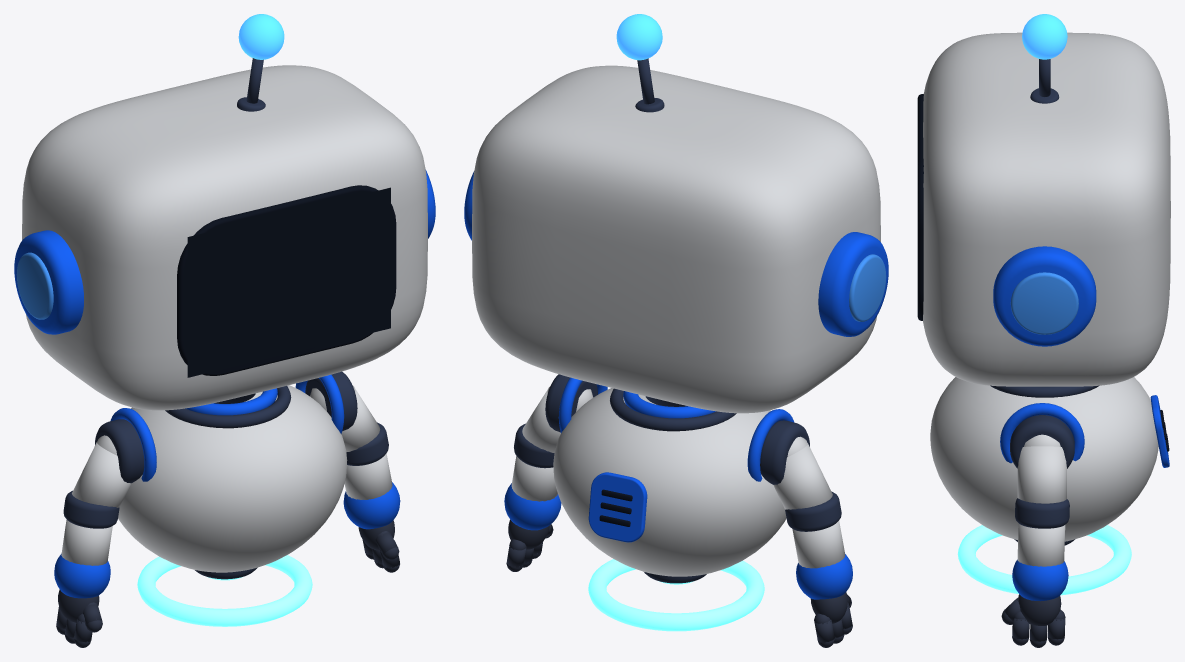
File: medicobot.glb
3 views of the same model, side by side, from view 1: azimuth 30°, elevation 25°; view 2: azimuth 150°, elevation 25°; view 3: azimuth 270°, elevation 25° (orthographic).
Parts seen in each view (by area): view 1: Head, FaceScreen, Body, HoverRing, Visor, Ear_R, Arm_R, EarDish_R, Forearm_R, WristRing_R, CollarBase, Shoulder_R (+13 smaller); view 2: Head, Body, HoverRing, Ear_R, BackPanel, Arm_R, EarDish_R, CollarBase, Forearm_R, Shoulder_R, WristRing_R, AntennaLight (+15 smaller); view 3: Head, Body, Ear_L, HoverRing, EarDish_L, Arm_L, Forearm_L, WristRing_L, Shoulder_L, ShoulderRing_L, AntennaLight, Visor (+6 smaller).
Part boxes in pixels (left/top/right/bottom): Head: left=22, top=65, right=427, bottom=410; FaceScreen: left=187, top=187, right=390, bottom=377; Body: left=118, top=385, right=347, bottom=572; HoverRing: left=137, top=555, right=312, bottom=626; Visor: left=177, top=185, right=396, bottom=375; Ear_R: left=14, top=230, right=83, bottom=334; Arm_R: left=72, top=435, right=130, bottom=507; EarDish_R: left=16, top=252, right=53, bottom=319; Forearm_R: left=61, top=519, right=112, bottom=565; WristRing_R: left=54, top=553, right=110, bottom=598; CollarBase: left=165, top=386, right=291, bottom=428; Shoulder_R: left=95, top=419, right=144, bottom=483; Head: left=472, top=65, right=880, bottom=413; Body: left=553, top=388, right=786, bottom=576; HoverRing: left=588, top=559, right=764, bottom=631; Ear_R: left=818, top=232, right=888, bottom=336; BackPanel: left=588, top=472, right=647, bottom=542; Arm_R: left=773, top=436, right=832, bottom=509; EarDish_R: left=849, top=254, right=886, bottom=321; CollarBase: left=610, top=388, right=736, bottom=431; Forearm_R: left=792, top=521, right=845, bottom=568; Shoulder_R: left=760, top=420, right=809, bottom=484; WristRing_R: left=796, top=554, right=852, bottom=599; AntennaLight: left=616, top=14, right=662, bottom=60; Head: left=923, top=32, right=1170, bottom=386; Body: left=930, top=377, right=1158, bottom=541; Ear_L: left=993, top=246, right=1096, bottom=346; HoverRing: left=957, top=525, right=1131, bottom=595; EarDish_L: left=1010, top=272, right=1078, bottom=334; Arm_L: left=1017, top=434, right=1066, bottom=503; Forearm_L: left=1017, top=523, right=1065, bottom=566; WristRing_L: left=1012, top=559, right=1068, bottom=601; Shoulder_L: left=1010, top=415, right=1074, bottom=468; ShoulderRing_L: left=1000, top=403, right=1084, bottom=463; AntennaLight: left=1022, top=14, right=1067, bottom=59; Visor: left=917, top=94, right=923, bottom=320.
Bounding box in the file's own units: 0.734 × 1.05 × 0.4227.
